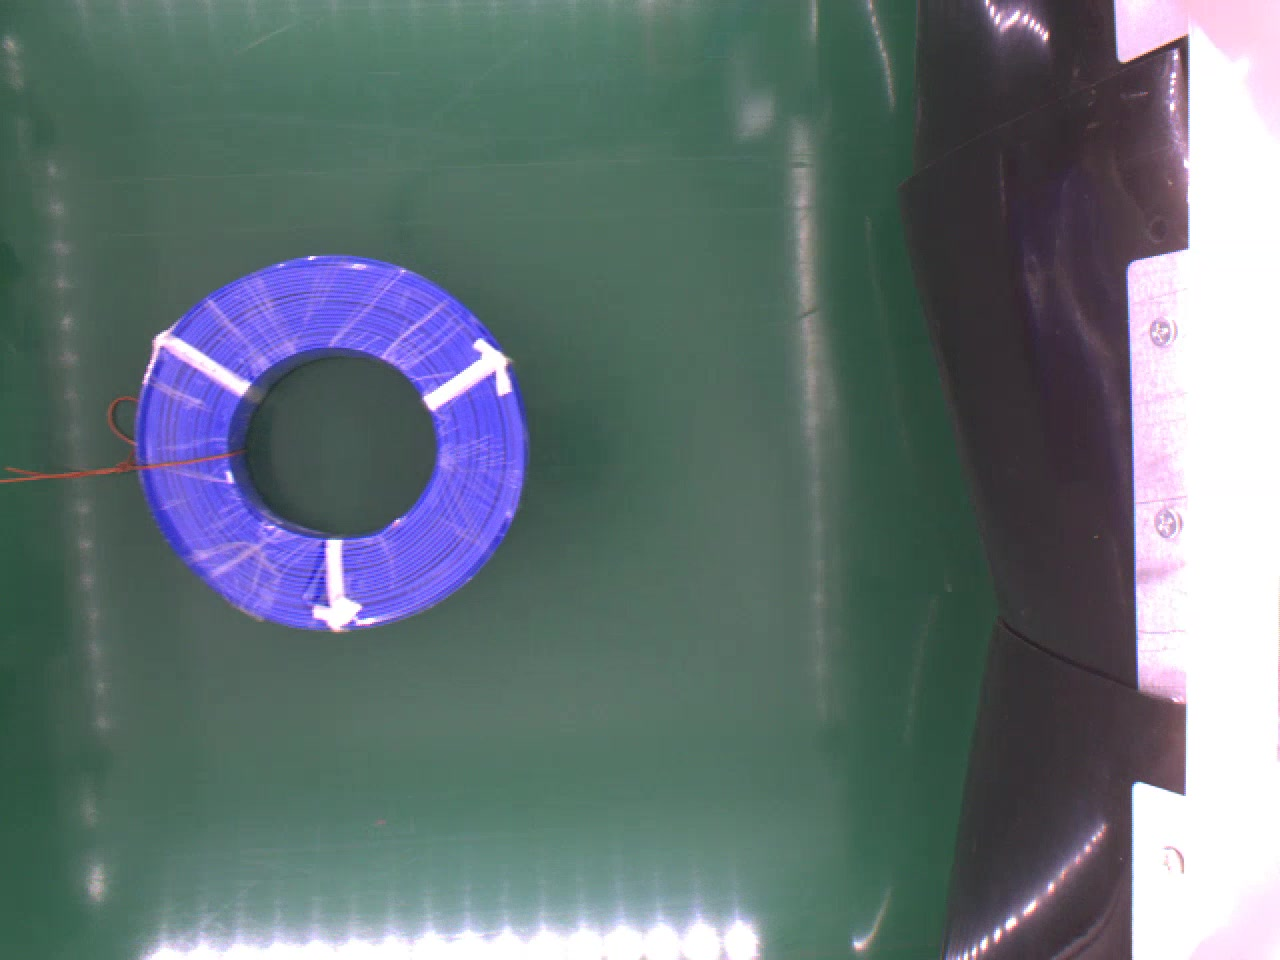blue: (131, 255, 529, 630)
